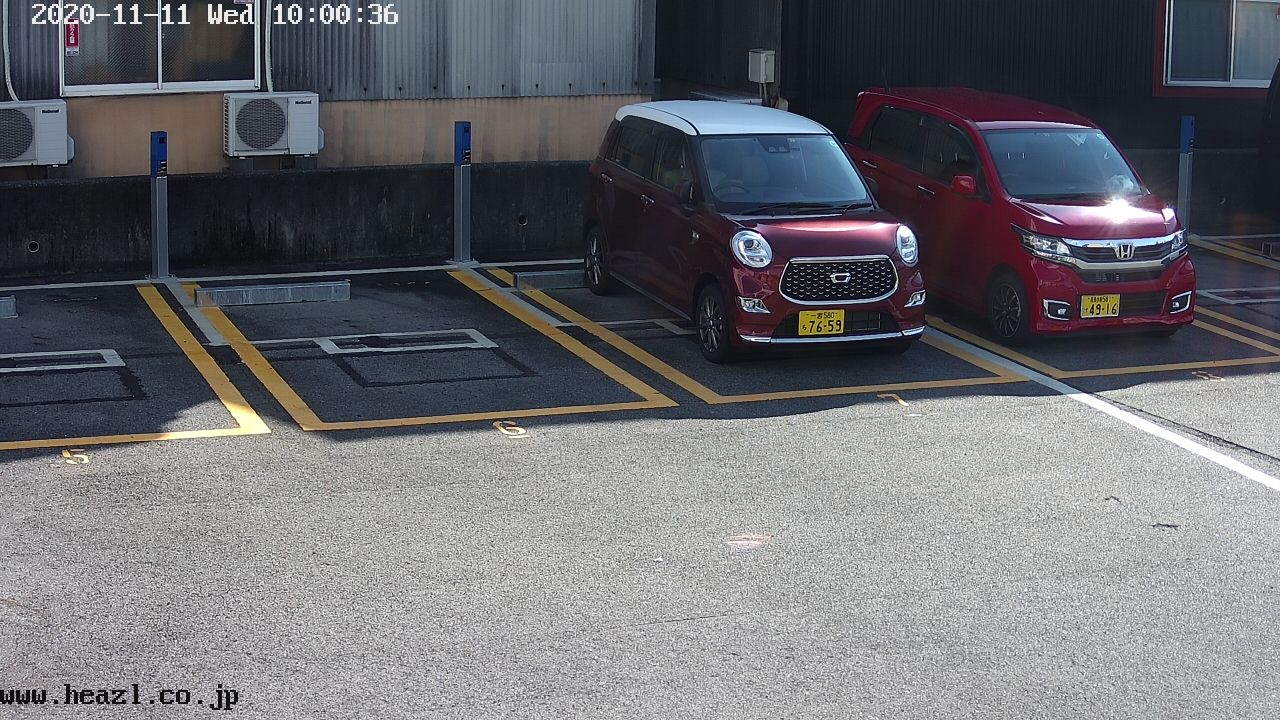number_plate: (796, 308, 847, 336), (1080, 294, 1122, 319)
